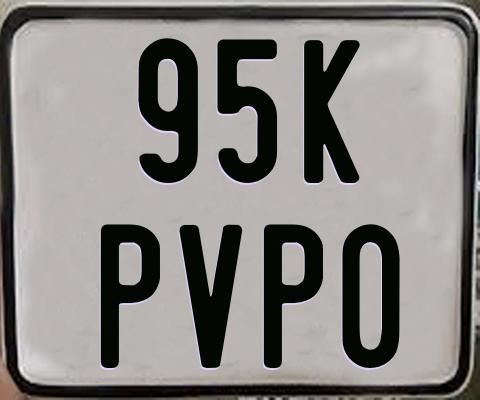0: (341, 221, 399, 371)
5: (217, 37, 283, 183)
9: (135, 36, 199, 183)
K: (304, 39, 362, 186)
P: (100, 222, 161, 372), (264, 222, 323, 367)
V: (178, 223, 243, 372)
